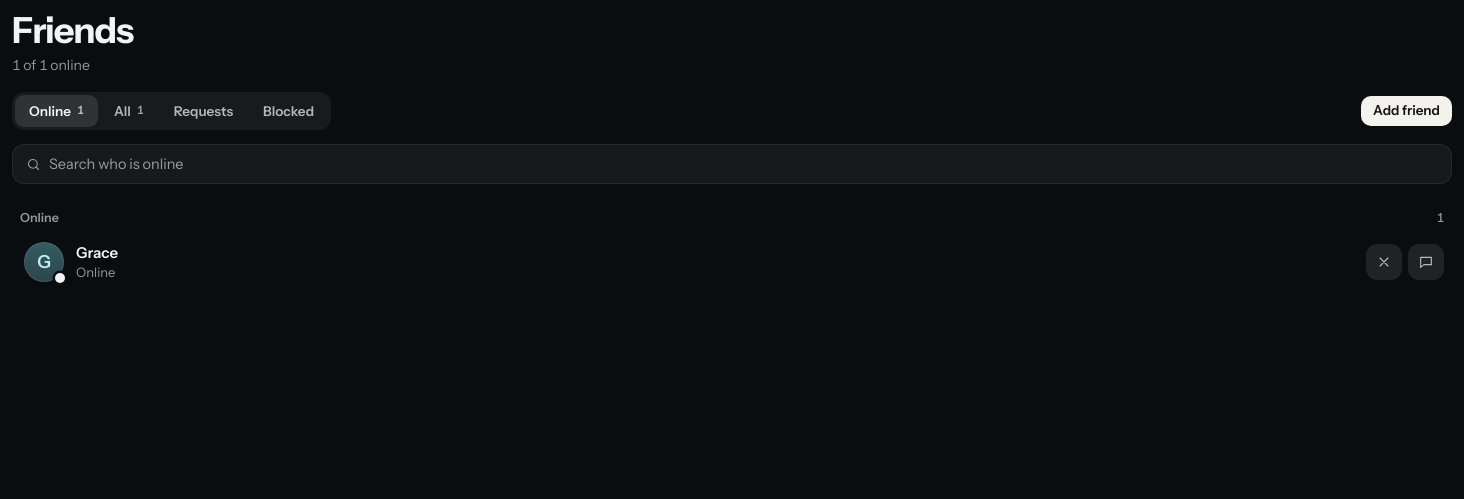
FriendsPage › prevents duplicate friend requests while a send is already pending
Click the button "Add friend".
click(1407, 111)  # box [1361,96,1452,126]
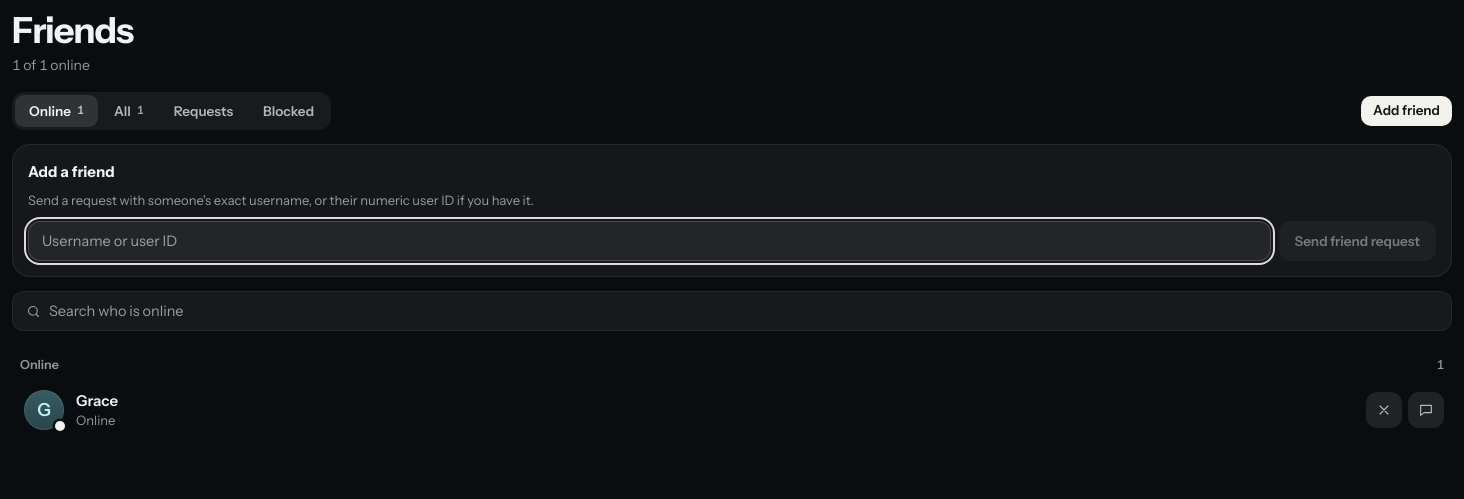
Type "  Ada  " into the field labelled "Username or user ID".
click(649, 241); type("  Ada  ")  # box [28,221,1271,261]
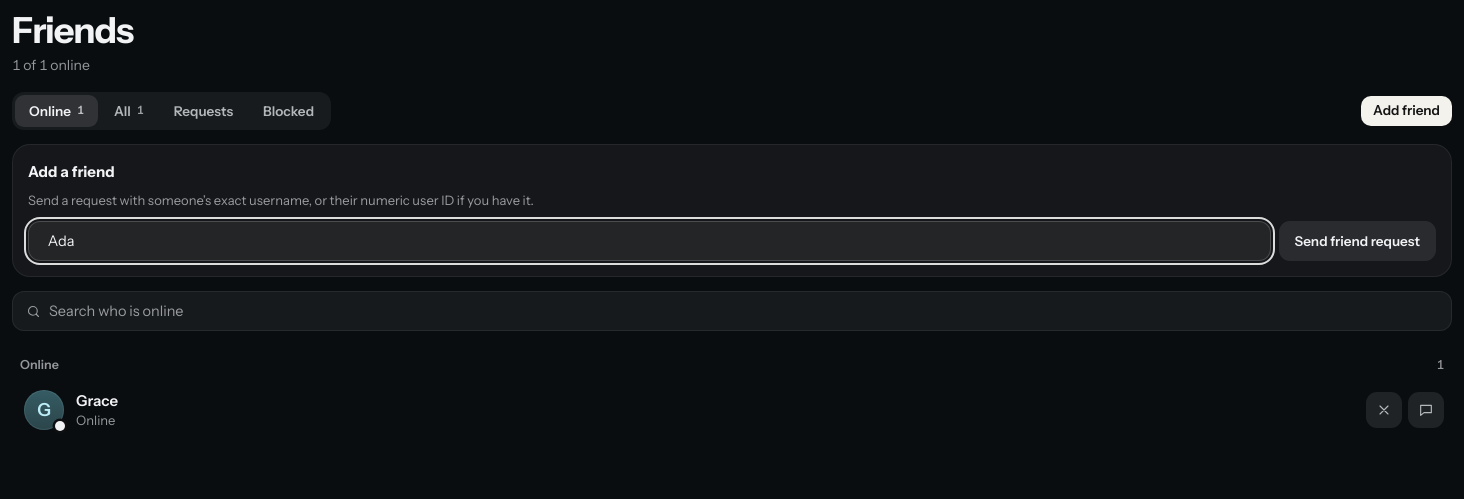
Click the button "Send friend request".
click(1357, 241)  # box [1279,221,1436,261]
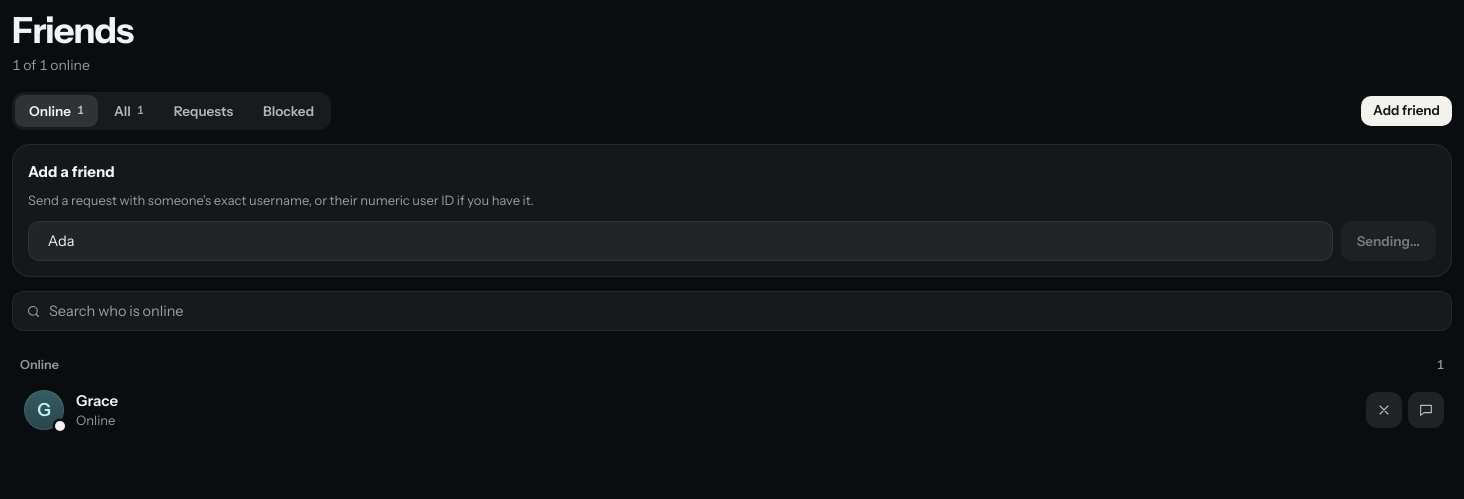
Result: the button "Sending..." is disabled
Click the button "Sending...".
click(1388, 241)  # box [1341,221,1436,261]
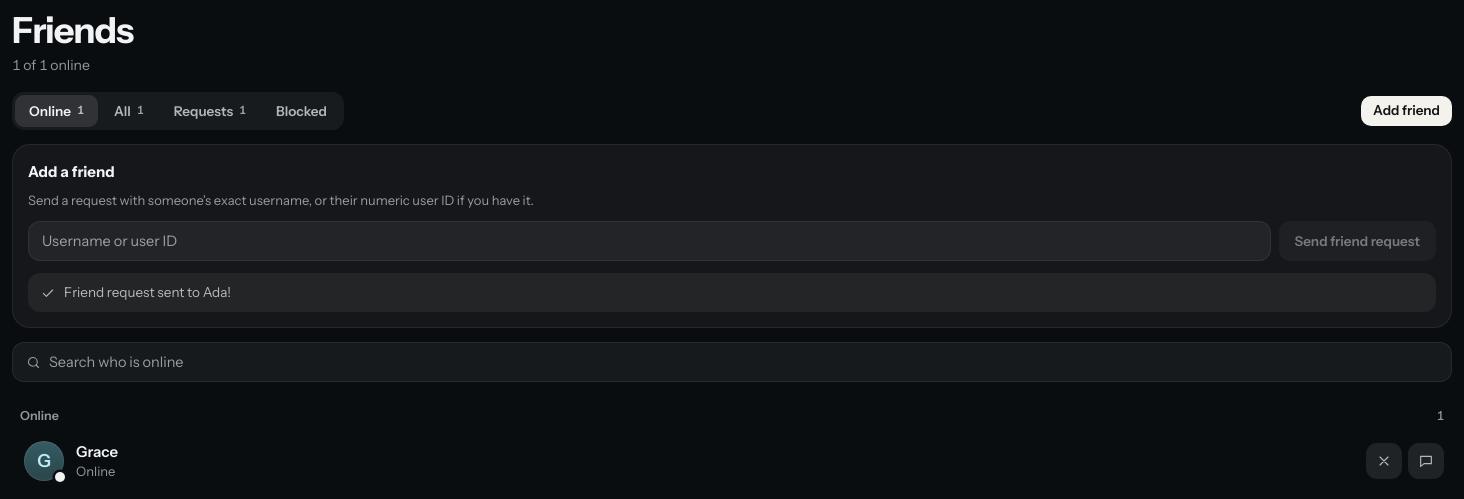
Result: the message reads "Friend request sent to Ada!" at [64,284,231,300]
